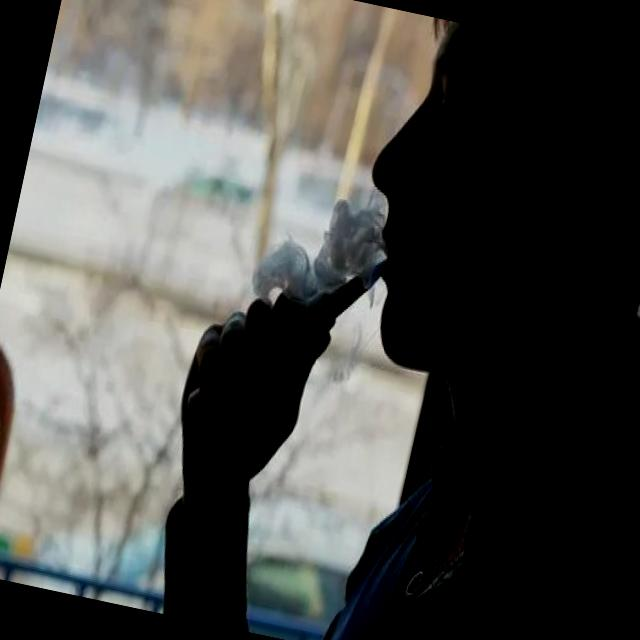cigarette: (178, 211, 394, 463)
